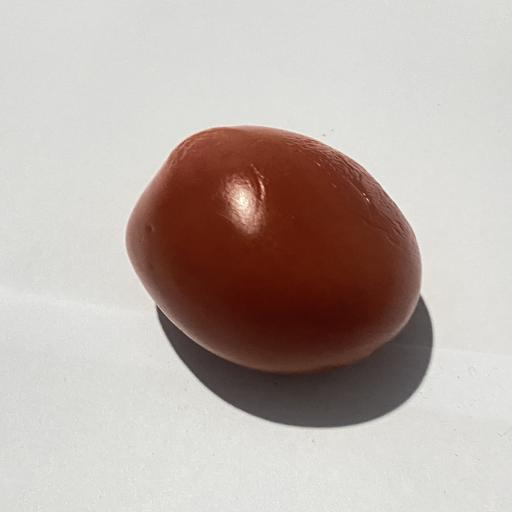spoiled: (126, 126, 421, 373)
